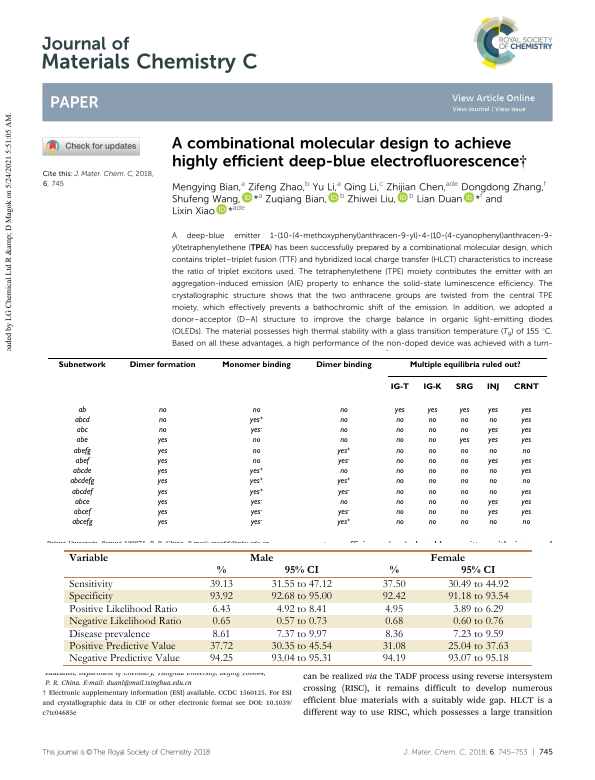borderless: (46, 356, 548, 535), (64, 548, 532, 665)
cell: (68, 616, 182, 628), (68, 653, 180, 665), (68, 603, 178, 615), (68, 641, 176, 653), (408, 361, 521, 370), (68, 628, 150, 640), (270, 579, 332, 591), (447, 579, 509, 591), (270, 591, 332, 603), (447, 591, 509, 603), (270, 641, 332, 653), (447, 641, 509, 653), (270, 653, 332, 665), (447, 653, 509, 665), (221, 361, 291, 370), (275, 603, 327, 615), (452, 603, 504, 615), (275, 616, 327, 628), (452, 616, 504, 628), (275, 628, 327, 640), (452, 628, 504, 640), (128, 361, 196, 370), (68, 579, 113, 591), (68, 591, 113, 603), (315, 361, 372, 370), (57, 361, 106, 370), (68, 552, 109, 562), (429, 552, 465, 562), (283, 565, 319, 574), (460, 565, 496, 574), (208, 579, 233, 591), (381, 579, 406, 591), (208, 591, 233, 603), (381, 591, 406, 603), (208, 641, 233, 653), (381, 641, 406, 653), (208, 653, 233, 665), (381, 653, 406, 665), (248, 552, 274, 562), (211, 603, 231, 615), (211, 616, 231, 628), (211, 628, 231, 640), (513, 383, 539, 392), (69, 477, 95, 486), (70, 487, 93, 497), (384, 603, 403, 615), (384, 616, 403, 628), (384, 628, 403, 640), (71, 518, 93, 527), (72, 446, 91, 456), (389, 383, 409, 392), (422, 383, 442, 392), (454, 383, 474, 392), (72, 467, 92, 476), (72, 508, 91, 517), (73, 415, 90, 425), (73, 497, 90, 507), (74, 456, 90, 466), (249, 415, 264, 425), (336, 446, 351, 456), (249, 487, 264, 497), (249, 497, 263, 507), (485, 383, 500, 392), (249, 467, 264, 476), (249, 477, 264, 486), (336, 477, 351, 486), (336, 518, 351, 527), (337, 456, 350, 466), (337, 487, 350, 497), (249, 426, 263, 435), (249, 508, 263, 517), (249, 518, 263, 527), (426, 405, 438, 415), (458, 405, 470, 415), (520, 405, 532, 415), (520, 415, 532, 425), (156, 446, 168, 456), (156, 456, 168, 466), (520, 456, 532, 466), (156, 487, 168, 497), (520, 487, 532, 497), (156, 497, 168, 507), (520, 497, 532, 507), (75, 426, 88, 435), (75, 436, 88, 445), (337, 508, 350, 517), (394, 405, 405, 415), (487, 405, 498, 415), (487, 456, 498, 466), (487, 497, 498, 507), (520, 426, 532, 435), (156, 436, 168, 445), (458, 436, 470, 445), (520, 436, 532, 445), (156, 467, 168, 476), (520, 467, 532, 476), (156, 477, 168, 486), (156, 508, 168, 517), (520, 508, 532, 517), (156, 518, 168, 527), (77, 405, 87, 415), (157, 405, 167, 415), (251, 405, 261, 415), (157, 415, 167, 425), (427, 415, 437, 425), (459, 415, 469, 425), (251, 446, 261, 456), (427, 446, 437, 456), (459, 446, 469, 456), (521, 446, 531, 456), (251, 456, 261, 466), (427, 456, 437, 466), (459, 456, 469, 466), (427, 487, 437, 497), (459, 487, 469, 497), (427, 497, 437, 507), (459, 497, 469, 507), (487, 426, 498, 435), (487, 436, 498, 445), (487, 508, 498, 517), (215, 565, 226, 574), (388, 565, 399, 574), (339, 405, 348, 415), (339, 415, 348, 425), (395, 415, 404, 425), (488, 415, 497, 425), (157, 426, 167, 435), (427, 426, 437, 435), (459, 426, 469, 435), (251, 436, 261, 445), (427, 436, 437, 445), (395, 446, 404, 456), (488, 446, 497, 456), (395, 456, 404, 466), (427, 467, 437, 476), (459, 467, 469, 476), (427, 477, 437, 486), (459, 477, 469, 486), (521, 477, 531, 486), (395, 487, 404, 497), (488, 487, 497, 497), (339, 497, 348, 507), (395, 497, 404, 507), (427, 508, 437, 517), (459, 508, 469, 517), (427, 518, 437, 527), (459, 518, 469, 527), (521, 518, 531, 527), (339, 426, 348, 435), (395, 426, 404, 435), (339, 436, 348, 445), (395, 436, 404, 445), (339, 467, 348, 476), (395, 467, 404, 476), (488, 467, 497, 476), (395, 477, 404, 486), (488, 477, 497, 486), (395, 508, 404, 517), (395, 518, 404, 527), (488, 518, 497, 527)
